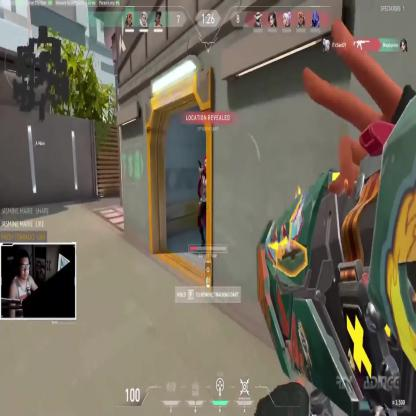enemy: (195, 150, 217, 254)
enemy_head: (204, 156, 210, 173)
